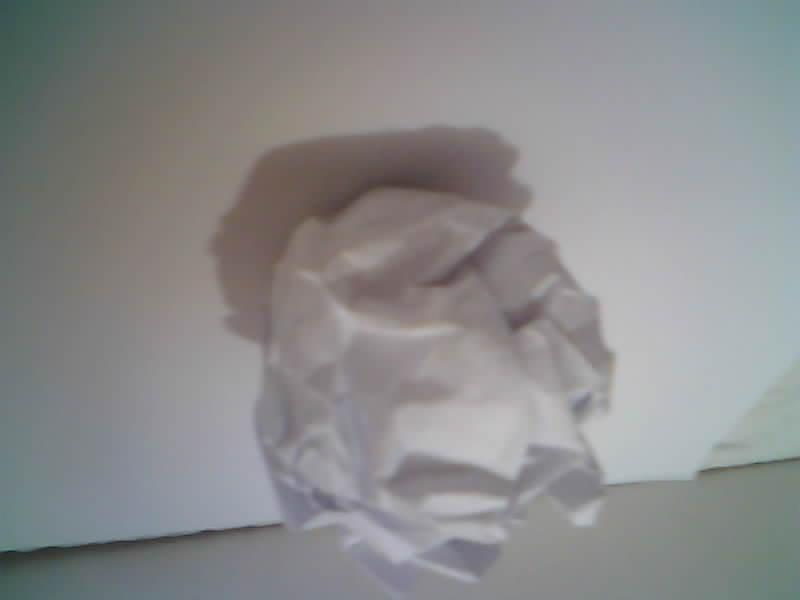biodegradable: (257, 187, 614, 596)
